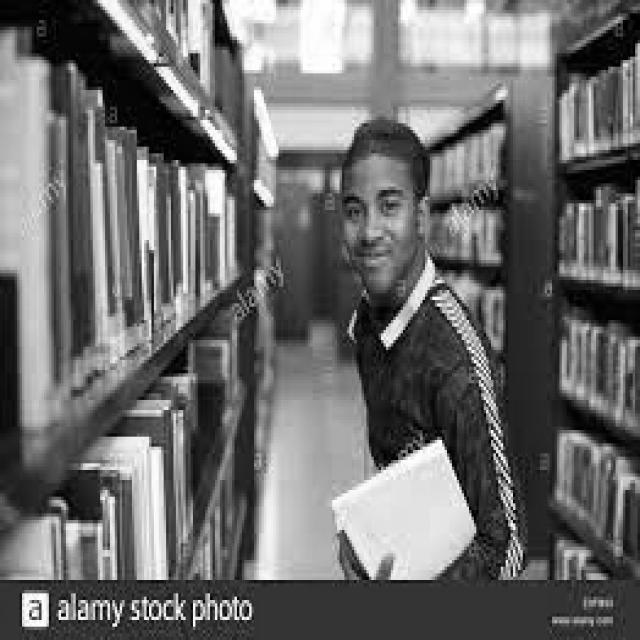stand: (352, 86, 510, 595)
